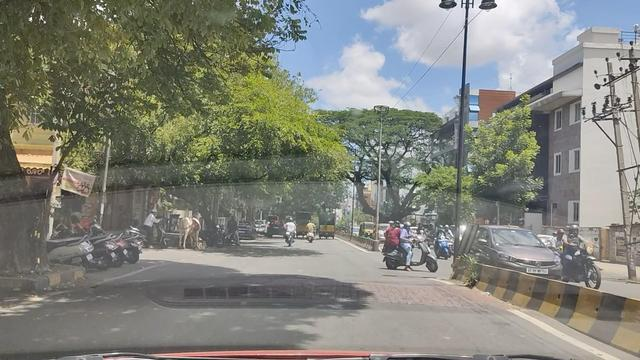LMV: (390, 228, 428, 269)
